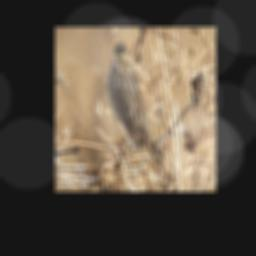Sparrow: (107, 41, 163, 177)
